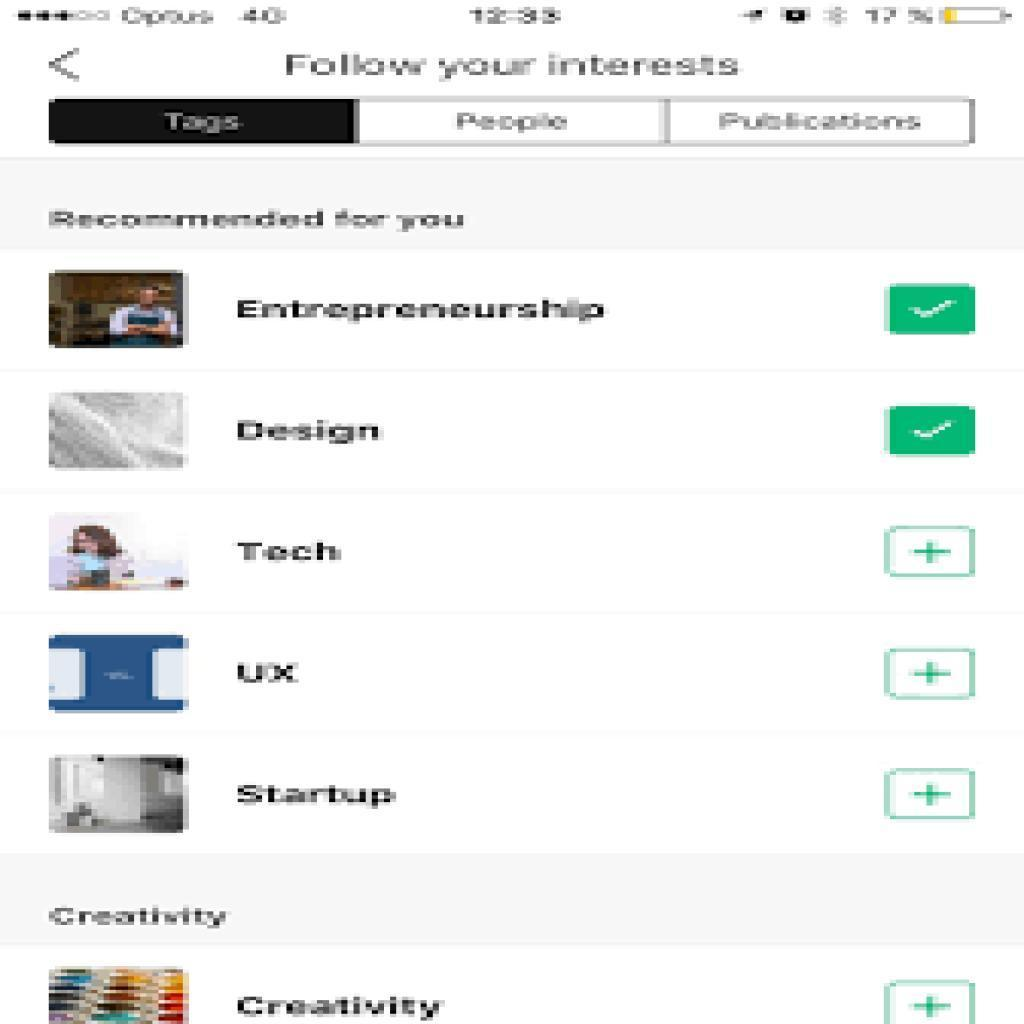button: (668, 97, 977, 147), (47, 98, 359, 147), (358, 100, 670, 146)
checkbox: (883, 648, 979, 702), (883, 527, 979, 580), (885, 769, 979, 822), (885, 406, 977, 459), (886, 284, 978, 336), (887, 980, 976, 1024)
icon: (42, 47, 91, 85)
label: (234, 292, 619, 327), (235, 991, 445, 1024), (230, 780, 407, 814), (234, 412, 387, 448), (235, 534, 347, 571), (225, 657, 307, 691)
